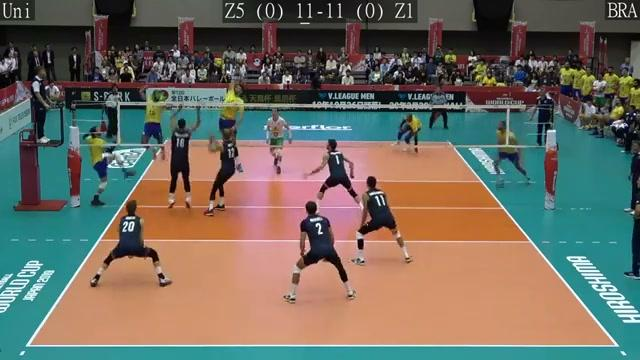ball: (213, 58, 224, 68)
